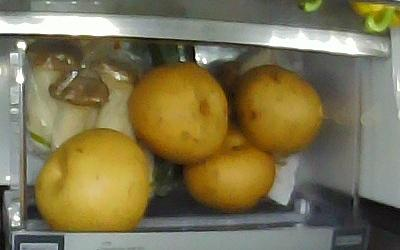pear: (34, 129, 148, 230), (129, 62, 228, 164), (234, 65, 325, 156), (184, 121, 276, 210)
